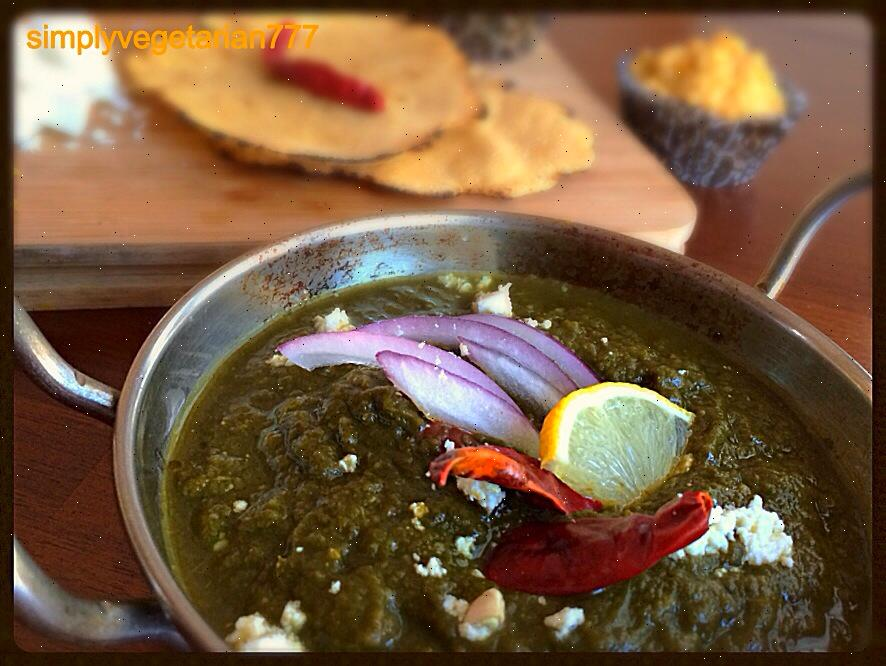saag: (165, 280, 874, 659)
